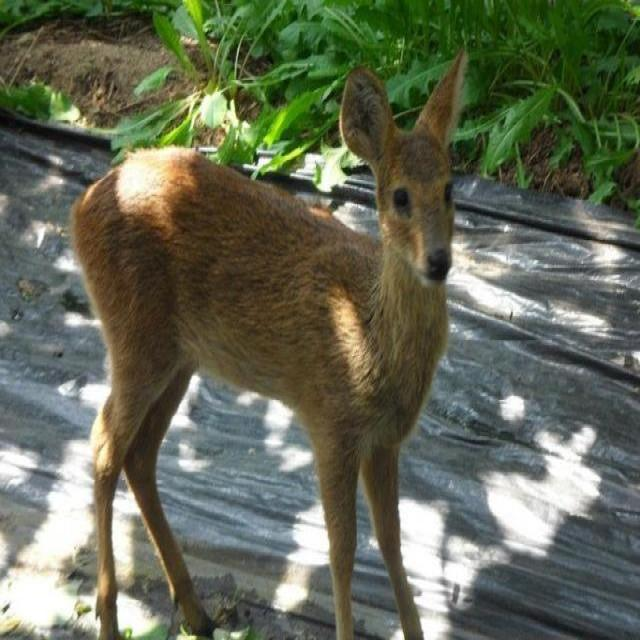deer: (56, 44, 486, 640)
